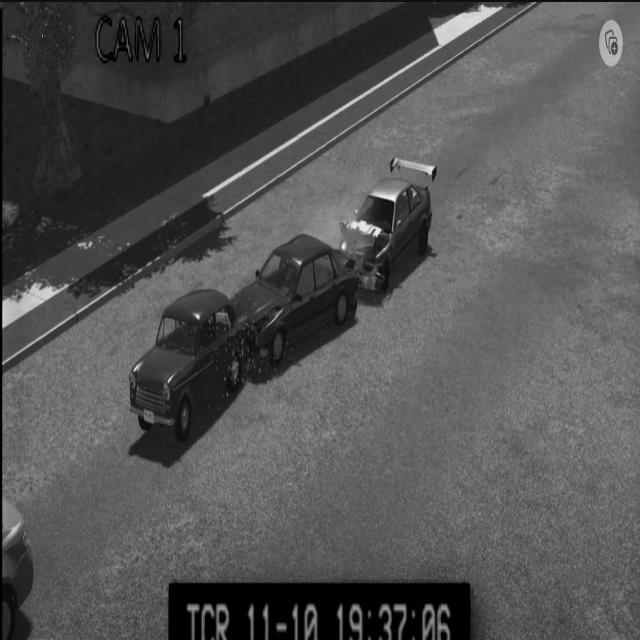accident: (126, 157, 436, 441)
vehicle: (3, 491, 35, 640)
